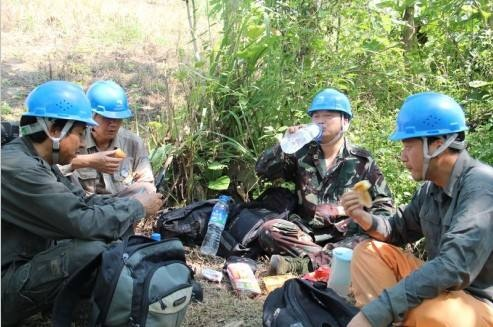blue: (390, 86, 469, 187), (24, 81, 86, 165), (84, 76, 130, 141), (306, 85, 352, 146)
